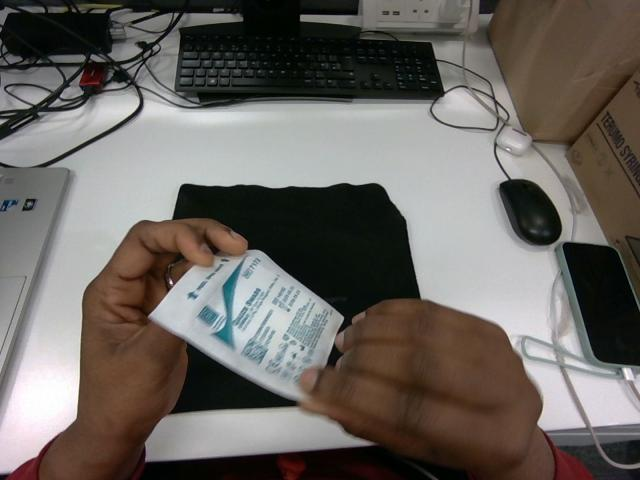gauze: (149, 250, 342, 399)
